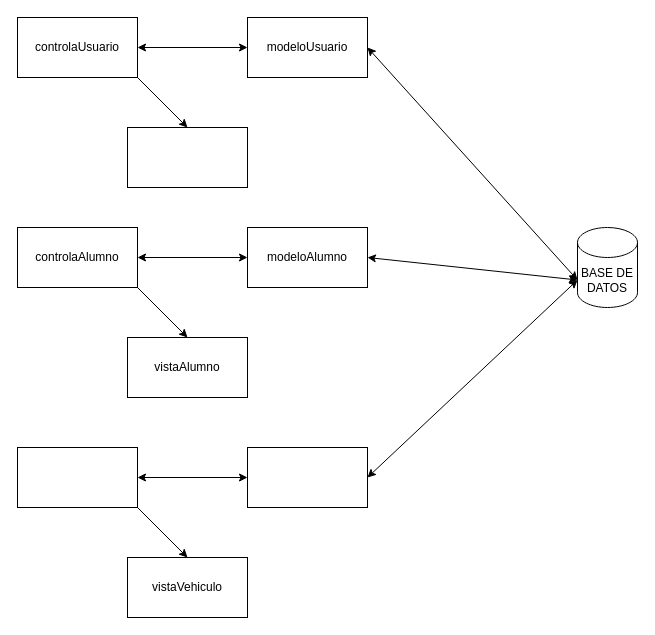
Some shapes in this 655 by 635 pixel diagram are drawn without their labels. Here are the shapes that lost their labels. From the top down, the centre of each, then its label:
[187,157]: vistaUsuario
[77,477]: controlaVehiculo
[307,477]: modeloVehiculo
